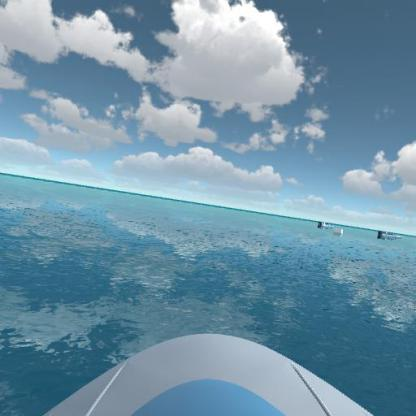usv1: (376, 226, 406, 246), (316, 218, 338, 231)
